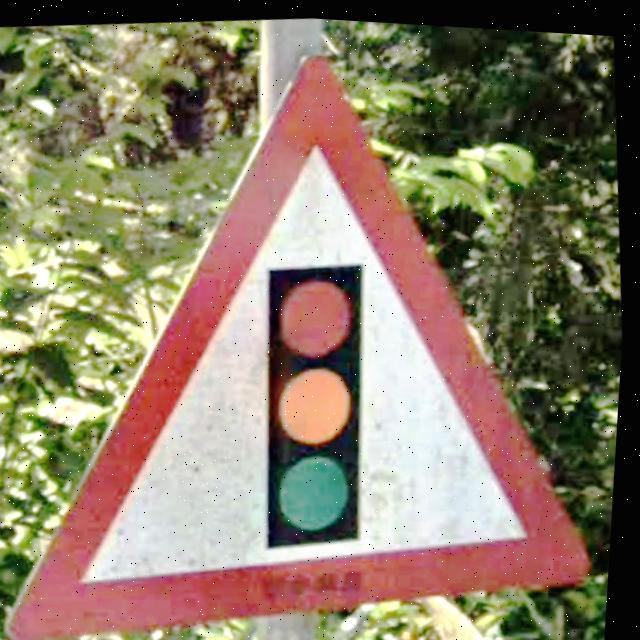signalahead: (16, 52, 597, 640)
